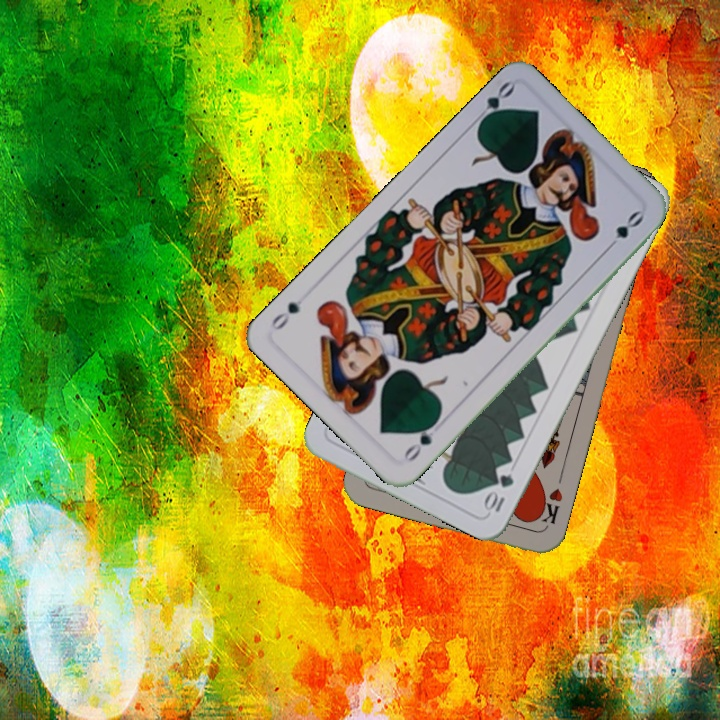G10: (481, 470, 517, 515)
GO: (469, 77, 517, 129), (398, 416, 441, 464)
HK: (532, 484, 566, 530)
